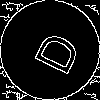D: (25, 25, 82, 77)
